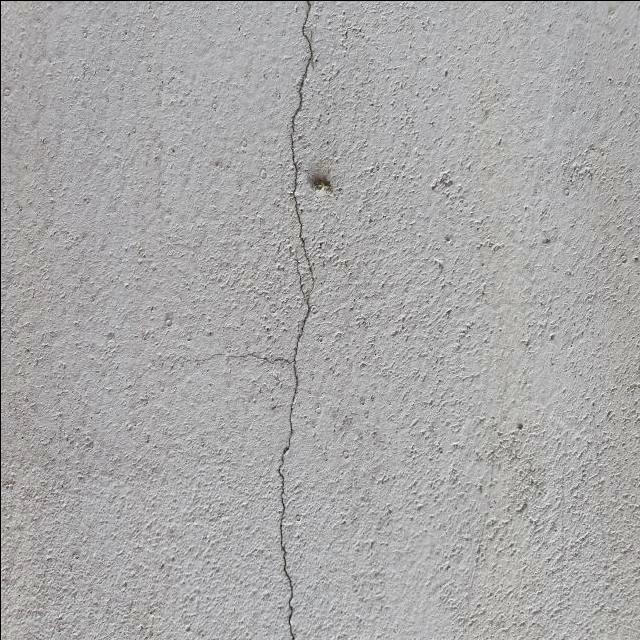SurfaceCrack: (232, 0, 373, 639)
